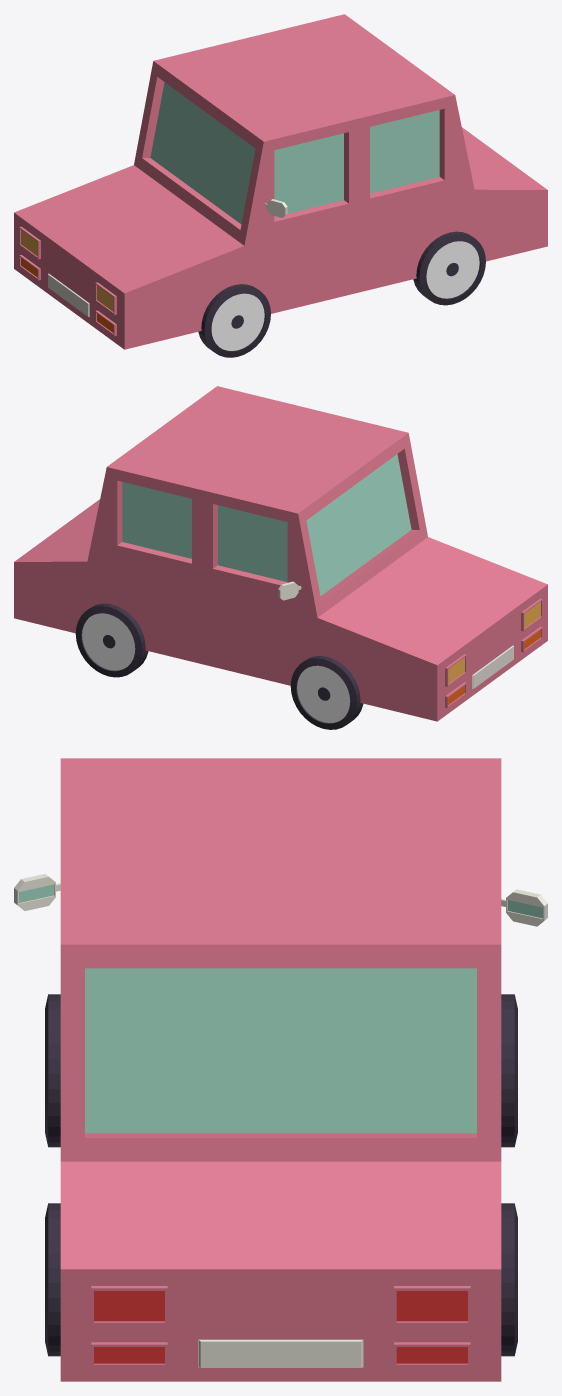
File: car2.gltf
The picture shows the model from 3 angles, top to bottom: view 1: azimuth 30°, elevation 25°; view 2: azimuth 150°, elevation 25°; view 3: azimuth 270°, elevation 25°; orthographic projection. The views are drawn at different scales.
Visible parts, largest first — view 1: Cube.001; view 2: Cube.001; view 3: Cube.001.
Boxes of the visible parts, x1,y1,x2,y2 form: Cube.001: (14, 14, 547, 357); Cube.001: (14, 386, 547, 729); Cube.001: (14, 758, 547, 1381).
Size of the model in its own units: 4.47 by 2.05 by 2.42.
Materials: 1 (1 with a texture image).
